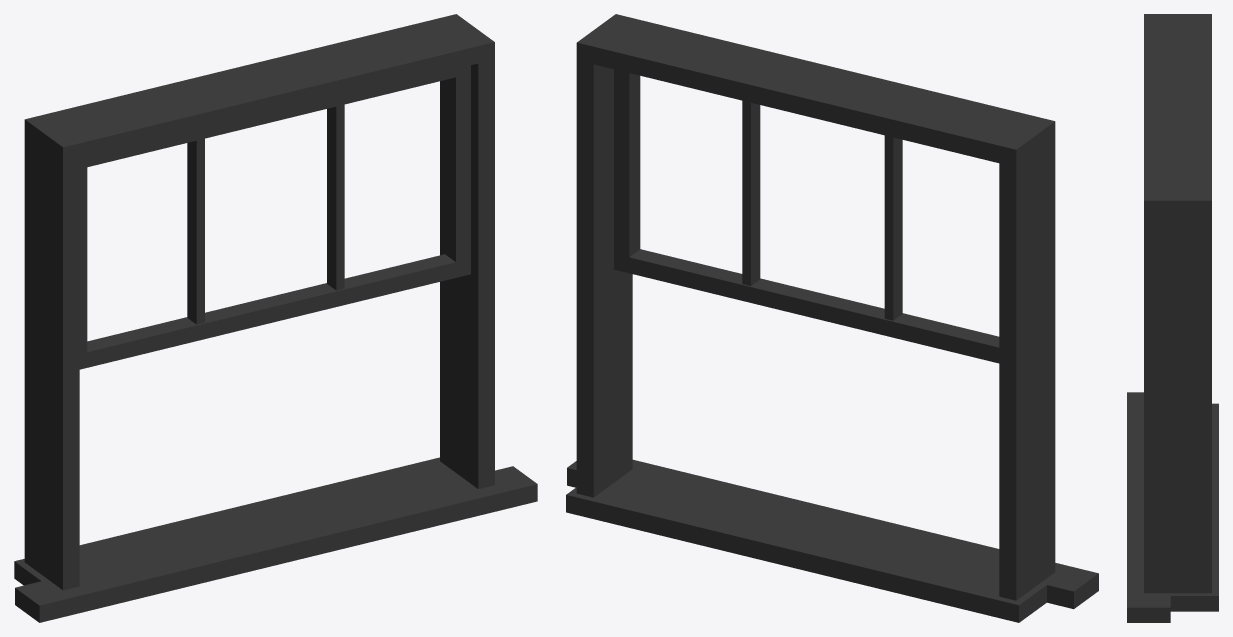
Rendered from Window4_02.fbx.
The picture shows the model from 3 angles, left to right: view 1: azimuth 30°, elevation 25°; view 2: azimuth 150°, elevation 25°; view 3: azimuth 270°, elevation 25°; orthographic projection. The views are drawn at different scales.
Parts seen in each view (by area): view 1: Window4_02; view 2: Window4_02; view 3: Window4_02.
Part boxes in pixels (x1,y1,x2,y2): Window4_02: (14, 14, 537, 622); Window4_02: (566, 14, 1098, 622); Window4_02: (1127, 14, 1218, 622).
Size of the model in its own units: 150 by 133 by 27.
